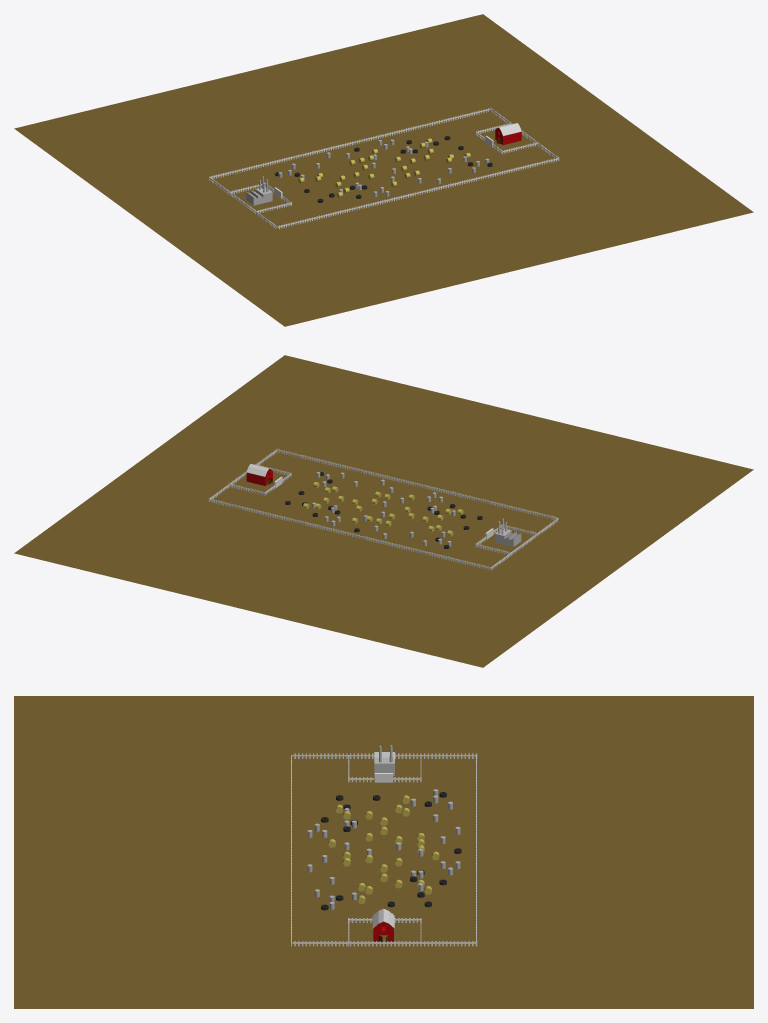
The model's file is Map1.fbx.
The picture shows the model from 3 angles, top to bottom: view 1: azimuth 30°, elevation 25°; view 2: azimuth 150°, elevation 25°; view 3: azimuth 270°, elevation 25°; orthographic projection. The views are drawn at different scales.
Visible parts, largest first — view 1: Terrain, Barrieres, Obstacles; view 2: Terrain, Barrieres, Obstacles; view 3: Terrain, Obstacles, Barrieres, Ferme.
Boxes of the visible parts, x1,y1,x2,y2 form: Terrain: (14, 14, 753, 326); Barrieres: (209, 107, 559, 229); Obstacles: (275, 136, 492, 202); Terrain: (14, 355, 753, 667); Barrieres: (208, 449, 558, 570); Obstacles: (285, 472, 482, 548); Terrain: (14, 696, 753, 1008); Obstacles: (307, 789, 461, 910); Barrieres: (291, 753, 477, 946); Ferme: (372, 908, 394, 942).
Bounding box in the file's own units: 200 × 9.78 × 200.
